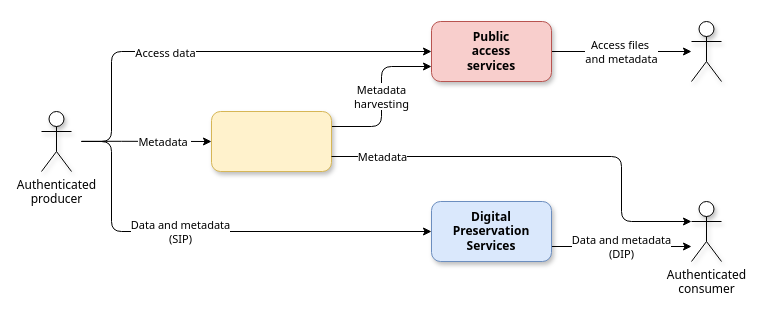
Some shapes in this 763 by 315 pixel diagram are drawn without their labels. The centre of each missing label's shape, as x and y in pixels:
"Metadata management systems" belongs at point (272, 142).
"Public consumer" belongs at point (707, 52).
